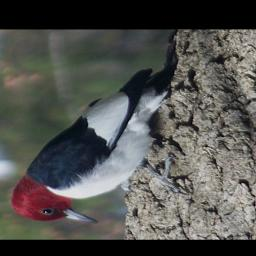Woodpecker: (9, 63, 197, 225)
